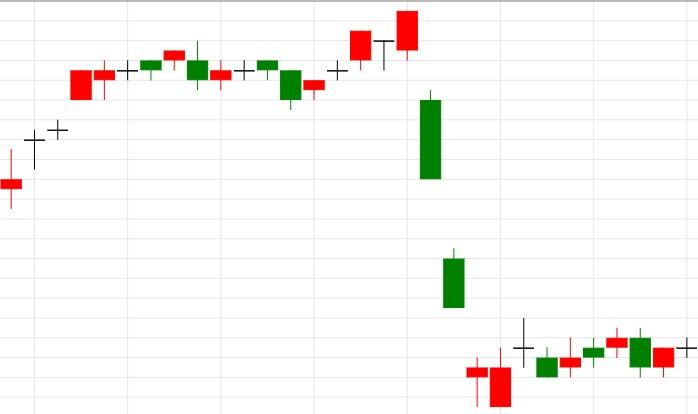bearish_engulfing_fall: (466, 318, 652, 407)
